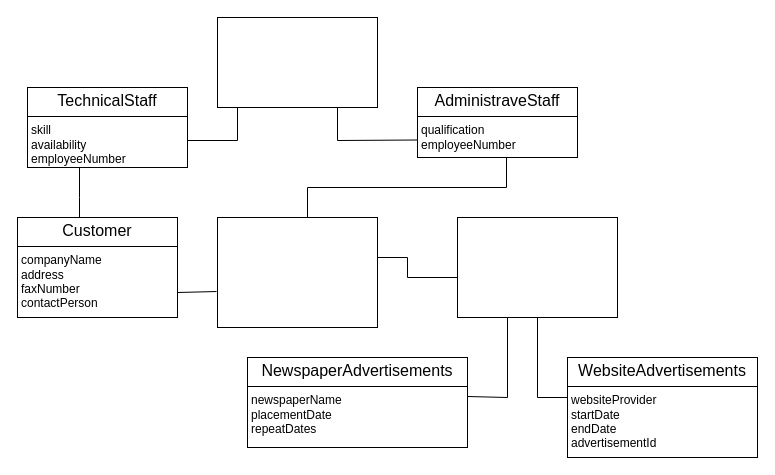
Some shapes in this 775 by 475 pixel diagram are drawn without their labels. Here are the shapes that lost their labels. From the top down, the box of each, then its label:
(216, 16, 378, 108): Employee name startDate employeeNumber
(216, 216, 378, 328): Campaign title requirements startDate endDate budgetCost
(456, 216, 618, 318): Advertisements title targetDate estimatedCost actualCost
